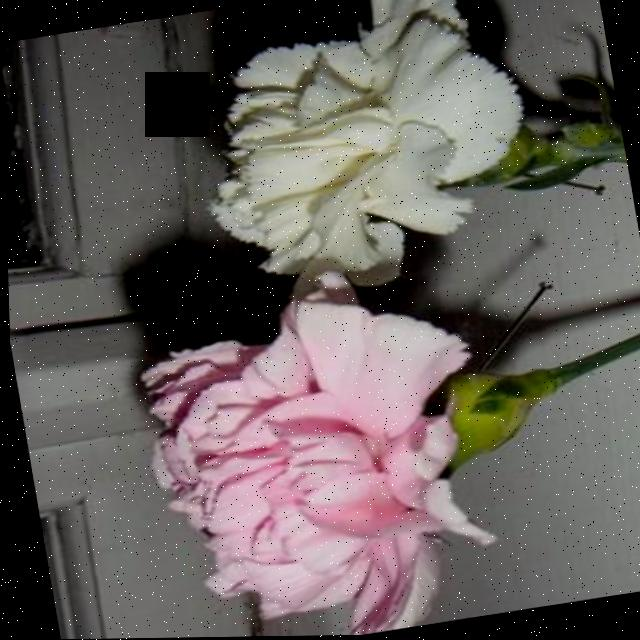carnation: (98, 272, 505, 639), (157, 0, 582, 319)
